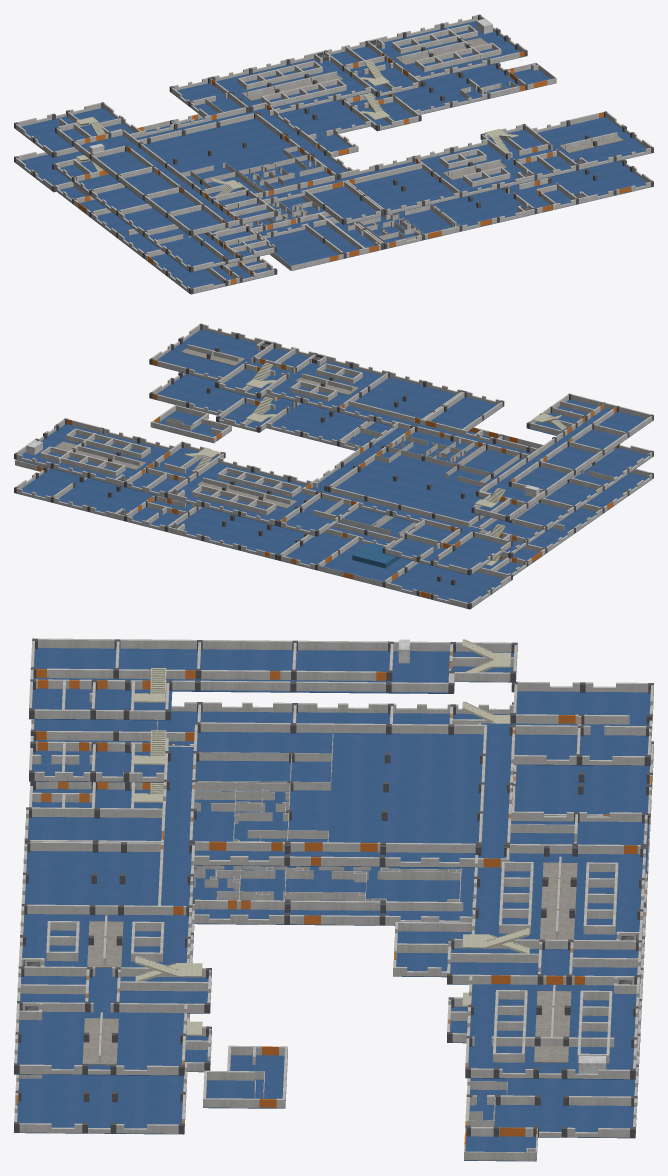
Rendered from tileset.gltf.
3 renders of one model, top to bottom at view 1: azimuth 30°, elevation 25°; view 2: azimuth 150°, elevation 25°; view 3: azimuth 270°, elevation 25°, orthographic. The views are drawn at different scales.
Parts seen in each view (by area): view 1: 300车间-3F-2F, 300车间-3F-1F, 300车间-3F-3F; view 2: 300车间-3F-2F, 300车间-3F-1F, 300车间-3F-3F; view 3: 300车间-3F-2F, 300车间-3F-1F, 300车间-3F-3F.
Part boxes in pixels (box(x1,y1,x2,y2)): 300车间-3F-2F: box(14, 14, 653, 272); 300车间-3F-1F: box(14, 62, 653, 294); 300车间-3F-3F: box(55, 117, 277, 236); 300车间-3F-2F: box(14, 323, 653, 575); 300车间-3F-1F: box(14, 372, 653, 609); 300车间-3F-3F: box(471, 393, 653, 521); 300车间-3F-2F: box(14, 681, 653, 1079); 300车间-3F-1F: box(14, 741, 653, 1161); 300车间-3F-3F: box(29, 638, 517, 720).
Bounding box in the file's own units: 86.2 × 12.4 × 56.3.
8 materials, 8 textured.
